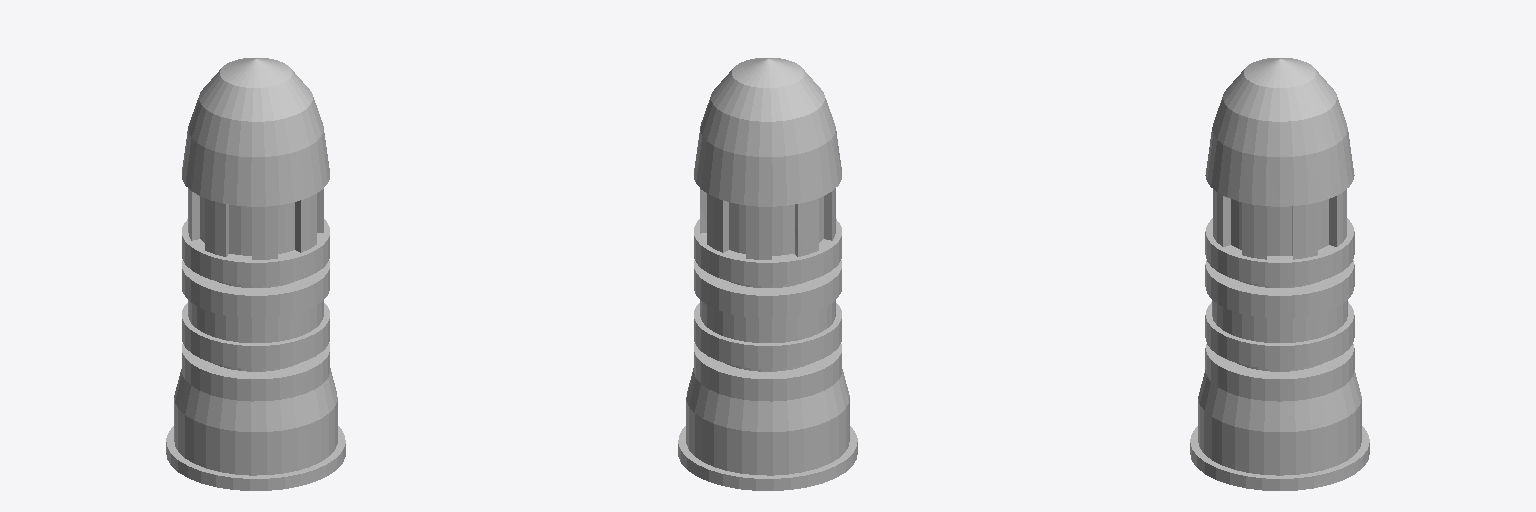
File: Phase shield.OBJ
3 views of the same model, side by side, from view 1: azimuth 30°, elevation 25°; view 2: azimuth 150°, elevation 25°; view 3: azimuth 270°, elevation 25° (orthographic).
Parts seen in each view (by area): view 1: Group46980; view 2: Group46980; view 3: Group46980.
Boxes of the visible parts, x1,y1,x2,y2 form: Group46980: [166, 58, 345, 490]; Group46980: [678, 58, 857, 490]; Group46980: [1190, 58, 1369, 490].
Bounding box in the file's own units: 2.65 × 6.4 × 2.65.